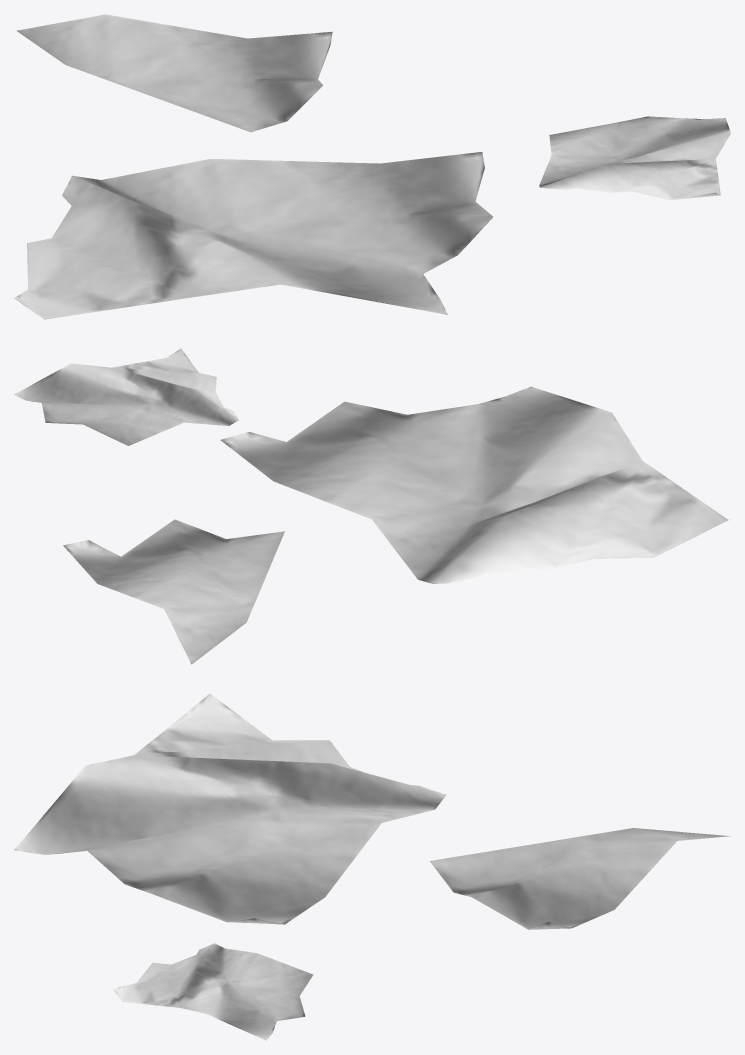
File: NvMingXingJia_02_zhipian_01.FBX
3 views of the same model, one above another, from view 1: azimuth 30°, elevation 25°; view 2: azimuth 150°, elevation 25°; view 3: azimuth 270°, elevation 25° (orthographic). The views are drawn at different scales.
Visible parts, largest first — view 1: ShaShouJia_01_zhipian_01; view 2: ShaShouJia_01_zhipian_01; view 3: ShaShouJia_01_zhipian_01.
Part boxes in pixels (bbox=[...]): ShaShouJia_01_zhipian_01: bbox=[14, 14, 730, 319]; ShaShouJia_01_zhipian_01: bbox=[14, 348, 729, 664]; ShaShouJia_01_zhipian_01: bbox=[14, 693, 729, 1040].
Bounding box in the file's own units: 266 × 15.24 × 248.
